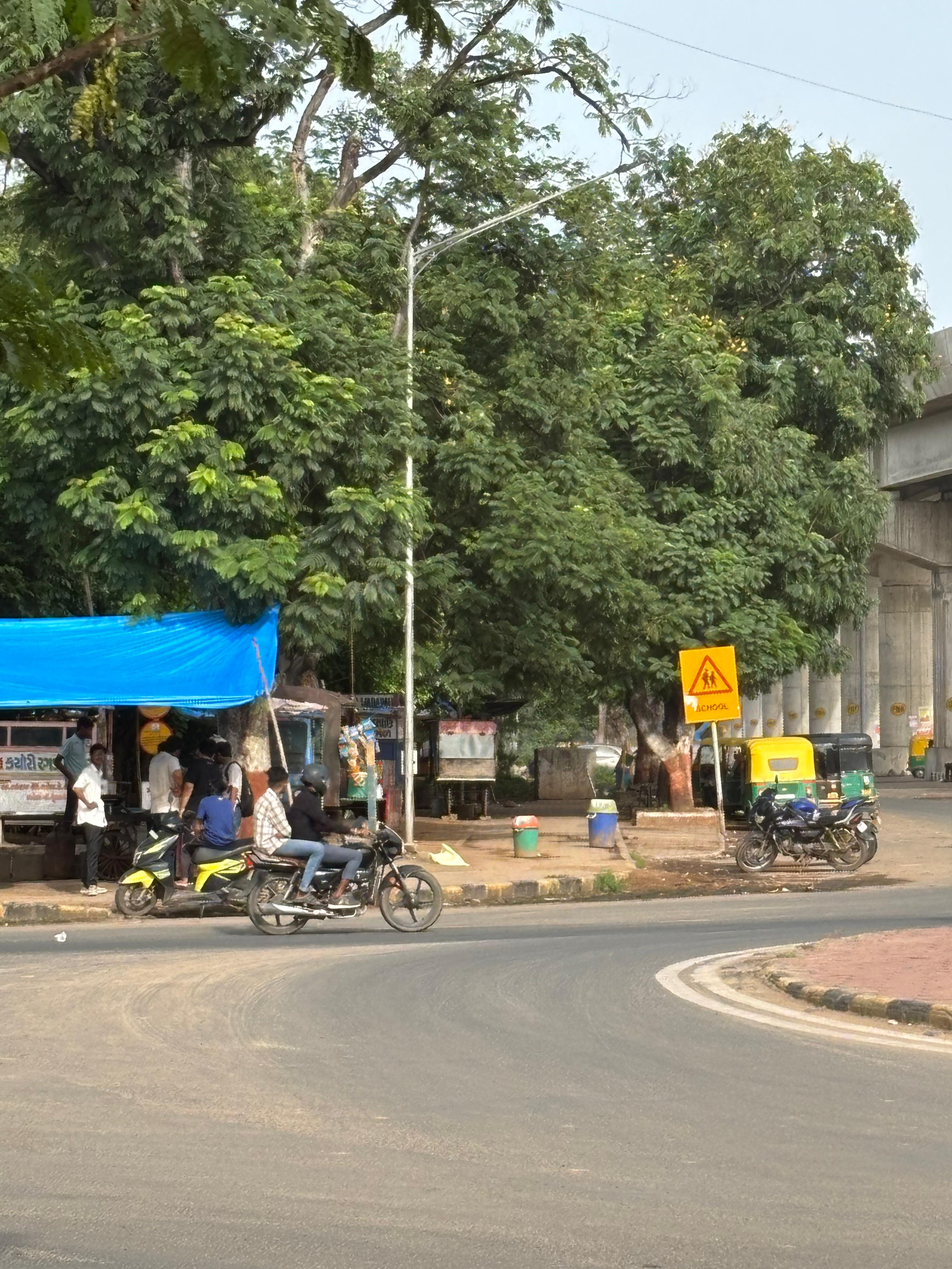BikeWithRider: (232, 755, 454, 943)
Helmet: (296, 759, 334, 798)
NoHelmet: (260, 763, 292, 799)
